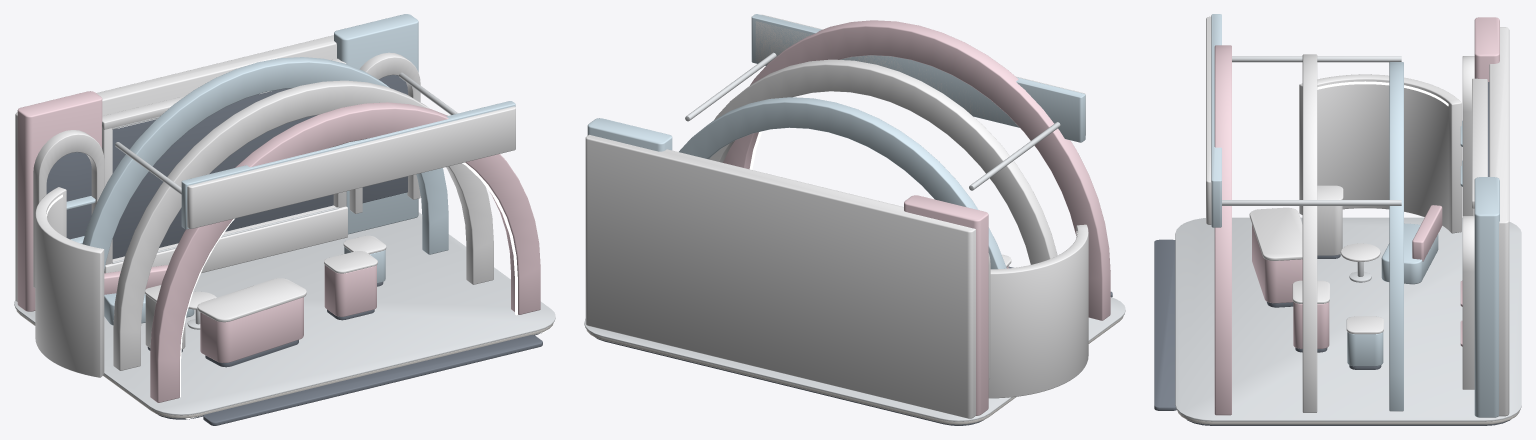
Rendered from booth_02_organic_flow_v27_3.glb.
3 renders of one model, left to right at view 1: azimuth 30°, elevation 25°; view 2: azimuth 150°, elevation 25°; view 3: azimuth 270°, elevation 25°, orthographic. The views are drawn at different scales.
Visible parts, largest first — view 1: V273_Booth02_OrganicFlow_Organic_Pearl_White, V273_Booth02_OrganicFlow_Organic_Satin_Silver, V273_Booth02_OrganicFlow_Organic_Pastel_Pink, V273_Booth02_OrganicFlow_Organic_Soft_Blue, V273_Booth02_OrganicFlow_Organic_Slate_Recess, V273_Booth02_OrganicFlow_Organic_Warm_Neutral, V273_Booth02_OrganicFlow_Organic_Soft_LED; view 2: V273_Booth02_OrganicFlow_Organic_Pearl_White, V273_Booth02_OrganicFlow_Organic_Pastel_Pink, V273_Booth02_OrganicFlow_Organic_Soft_Blue, V273_Booth02_OrganicFlow_Organic_Satin_Silver, V273_Booth02_OrganicFlow_Organic_Warm_Neutral, V273_Booth02_OrganicFlow_Organic_Slate_Recess; view 3: V273_Booth02_OrganicFlow_Organic_Satin_Silver, V273_Booth02_OrganicFlow_Organic_Pearl_White, V273_Booth02_OrganicFlow_Organic_Soft_Blue, V273_Booth02_OrganicFlow_Organic_Pastel_Pink, V273_Booth02_OrganicFlow_Organic_Slate_Recess, V273_Booth02_OrganicFlow_Organic_Warm_Neutral, V273_Booth02_OrganicFlow_Organic_Soft_LED.
Part boxes in pixels (x1,y1,x2,y2): V273_Booth02_OrganicFlow_Organic_Pearl_White: [15, 35, 515, 377]; V273_Booth02_OrganicFlow_Organic_Satin_Silver: [14, 72, 555, 415]; V273_Booth02_OrganicFlow_Organic_Pastel_Pink: [17, 91, 540, 402]; V273_Booth02_OrganicFlow_Organic_Soft_Blue: [66, 14, 515, 325]; V273_Booth02_OrganicFlow_Organic_Slate_Recess: [46, 75, 542, 425]; V273_Booth02_OrganicFlow_Organic_Warm_Neutral: [16, 309, 553, 418]; V273_Booth02_OrganicFlow_Organic_Soft_LED: [46, 91, 546, 419]; V273_Booth02_OrganicFlow_Organic_Pearl_White: [585, 14, 1088, 418]; V273_Booth02_OrganicFlow_Organic_Pastel_Pink: [723, 20, 1110, 415]; V273_Booth02_OrganicFlow_Organic_Soft_Blue: [587, 14, 1085, 269]; V273_Booth02_OrganicFlow_Organic_Satin_Silver: [584, 52, 1125, 421]; V273_Booth02_OrganicFlow_Organic_Warm_Neutral: [586, 316, 1123, 424]; V273_Booth02_OrganicFlow_Organic_Slate_Recess: [595, 266, 1112, 425]; V273_Booth02_OrganicFlow_Organic_Satin_Silver: [1175, 56, 1521, 421]; V273_Booth02_OrganicFlow_Organic_Pearl_White: [1206, 16, 1509, 416]; V273_Booth02_OrganicFlow_Organic_Soft_Blue: [1211, 14, 1499, 417]; V273_Booth02_OrganicFlow_Organic_Pastel_Pink: [1214, 17, 1499, 415]; V273_Booth02_OrganicFlow_Organic_Slate_Recess: [1154, 82, 1509, 425]; V273_Booth02_OrganicFlow_Organic_Warm_Neutral: [1177, 411, 1519, 424]; V273_Booth02_OrganicFlow_Organic_Soft_LED: [1179, 81, 1448, 416].
Size of the model in its own units: 7.7 by 4.32 by 5.52.
